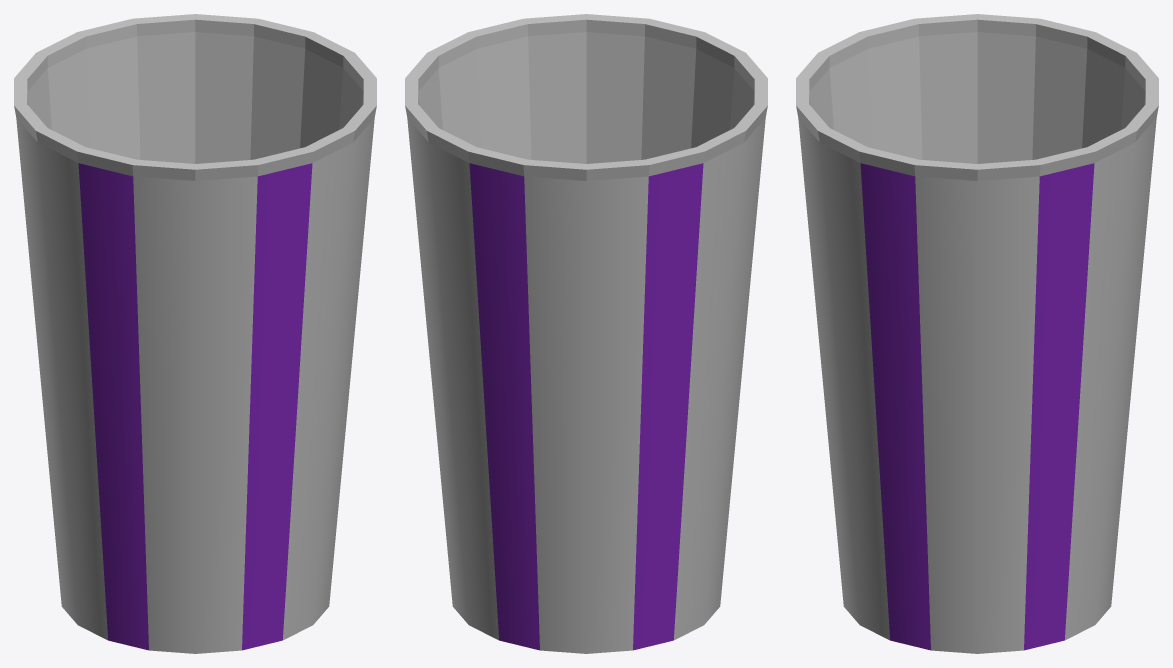
The model's file is PinkCup.fbx.
3 renders of one model, left to right at view 1: azimuth 30°, elevation 25°; view 2: azimuth 150°, elevation 25°; view 3: azimuth 270°, elevation 25°, orthographic.
Visible parts, largest first — view 1: YellowCup001; view 2: YellowCup001; view 3: YellowCup001.
Boxes of the visible parts, x1=… form: YellowCup001: x1=14, y1=14, x2=376, y2=653; YellowCup001: x1=405, y1=14, x2=767, y2=653; YellowCup001: x1=796, y1=14, x2=1158, y2=653.
Bounding box in the file's own units: 26.87 × 40.61 × 26.47.
